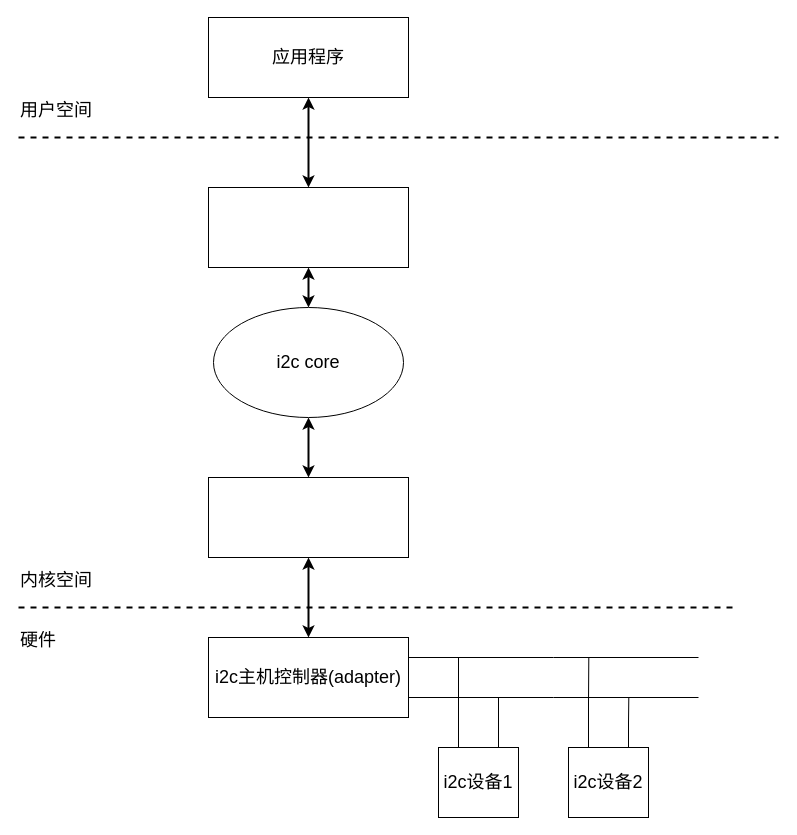
The diagram is 797 pixels wide and 835 high, and some of its shapes have lost their labels. Each missing label, with the centre of its shape:
"i2c主机控制器驱动(adapter)" belongs at (x=308, y=517).
"i2c设备驱动" belongs at (x=308, y=227).
